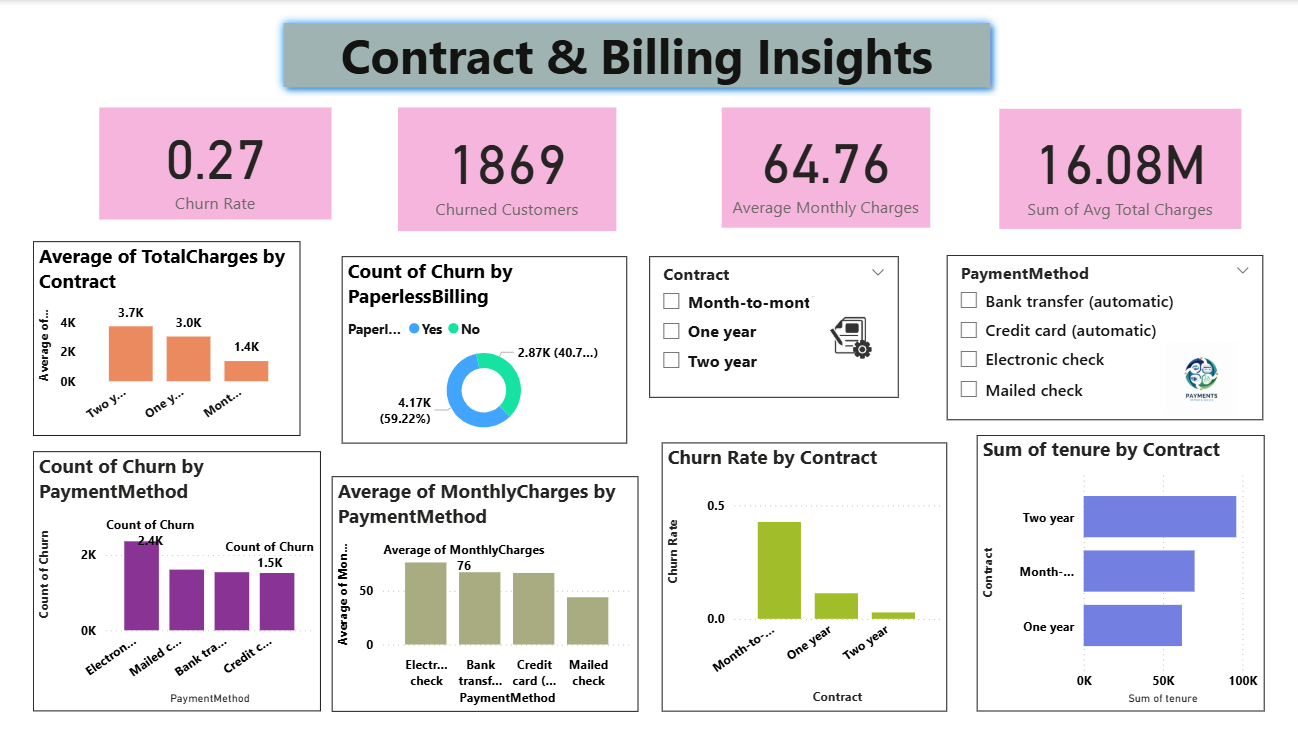

The dashboard page shown, as its layout file describes it:
{"tool":"powerbi","page":{"name":"Contract & Billing Insights","canvas":[1280,720],"ordinal":2},"visuals":[{"type":"columnChart","fields":{"Category":["WA_Fn-UseC_-Telco-Customer-Churn.Contract"],"Y":["WA_Fn-UseC_-Telco-Customer-Churn.Churn Rate"]},"box":[649.3,432.9,278.8,262.9],"z":0},{"type":"clusteredColumnChart","fields":{"Category":["WA_Fn-UseC_-Telco-Customer-Churn.PaymentMethod"],"Y":["CountNonNull(WA_Fn-UseC_-Telco-Customer-Churn.Churn)"]},"box":[34.2,441.4,281.3,254.3],"z":1000},{"type":"clusteredColumnChart","fields":{"Category":["WA_Fn-UseC_-Telco-Customer-Churn.Contract"],"Y":["Avg(WA_Fn-UseC_-Telco-Customer-Churn.TotalCharges)"]},"box":[34.2,235.5,261.5,190.3],"z":2000},{"type":"donutChart","fields":{"Category":["WA_Fn-UseC_-Telco-Customer-Churn.PaperlessBilling"],"Y":["CountNonNull(WA_Fn-UseC_-Telco-Customer-Churn.Churn)"]},"box":[336.3,250.7,278.8,183.4],"z":3000},{"type":"barChart","fields":{"Category":["WA_Fn-UseC_-Telco-Customer-Churn.Contract"],"Y":["Sum(WA_Fn-UseC_-Telco-Customer-Churn.tenure)"]},"box":[957.5,425.5,281.3,270.2],"z":4000},{"type":"card","fields":{"Values":["WA_Fn-UseC_-Telco-Customer-Churn.Average Monthly Charges"]},"box":[707.9,105.4,204,117.8],"z":5000},{"type":"card","fields":{"Values":["WA_Fn-UseC_-Telco-Customer-Churn.Churn Rate"]},"box":[98.6,105.4,227.3,109.5],"z":6000},{"type":"card","fields":{"Values":["WA_Fn-UseC_-Telco-Customer-Churn.Churned Customers"]},"box":[391.6,105.4,213.6,120.5],"z":7000},{"type":"slicer","fields":{"Values":["WA_Fn-UseC_-Telco-Customer-Churn.Contract"]},"box":[636.7,250.6,243.7,138.3],"z":8000},{"type":"slicer","fields":{"Values":["WA_Fn-UseC_-Telco-Customer-Churn.PaymentMethod"]},"box":[928.1,249.5,309.4,161.4],"z":9000},{"type":"card","fields":{"Values":["Sum(WA_Fn-UseC_-Telco-Customer-Churn.Avg Total Charges)"]},"box":[979,106.8,236.9,117.8],"z":10000},{"type":"columnChart","fields":{"Category":["WA_Fn-UseC_-Telco-Customer-Churn.PaymentMethod"],"Y":["Avg(WA_Fn-UseC_-Telco-Customer-Churn.MonthlyCharges)"]},"box":[325.9,465.6,299.9,230],"z":11000},{"type":"shape","box":[269.7,13.7,709.3,80.8],"z":12000},{"type":"image","box":[788.7,284.8,91.7,91.7],"z":13000},{"type":"image","box":[1115.2,330.2,123.5,80.7],"z":14000}]}

Visuals, with their boxes in screenshot pixels (x1, y1, x2, y2), scaled from the page's 1280x720 canvas onto the 1298x730 screenshot:
columnChart - WA_Fn-UseC_-Telco-Customer-Churn.Contract x WA_Fn-UseC_-Telco-Customer-Churn.Churn Rate: 658:439:941:705
clusteredColumnChart - WA_Fn-UseC_-Telco-Customer-Churn.PaymentMethod x CountNonNull(WA_Fn-UseC_-Telco-Customer-Churn.Churn): 35:448:320:705
clusteredColumnChart - WA_Fn-UseC_-Telco-Customer-Churn.Contract x Avg(WA_Fn-UseC_-Telco-Customer-Churn.TotalCharges): 35:239:300:432
donutChart - WA_Fn-UseC_-Telco-Customer-Churn.PaperlessBilling x CountNonNull(WA_Fn-UseC_-Telco-Customer-Churn.Churn): 341:254:624:440
barChart - WA_Fn-UseC_-Telco-Customer-Churn.Contract x Sum(WA_Fn-UseC_-Telco-Customer-Churn.tenure): 971:431:1256:705
card - WA_Fn-UseC_-Telco-Customer-Churn.Average Monthly Charges: 718:107:925:226
card - WA_Fn-UseC_-Telco-Customer-Churn.Churn Rate: 100:107:330:218
card - WA_Fn-UseC_-Telco-Customer-Churn.Churned Customers: 397:107:614:229
slicer - WA_Fn-UseC_-Telco-Customer-Churn.Contract: 646:254:893:394
slicer - WA_Fn-UseC_-Telco-Customer-Churn.PaymentMethod: 941:253:1255:417
card - Sum(WA_Fn-UseC_-Telco-Customer-Churn.Avg Total Charges): 993:108:1233:228
columnChart - WA_Fn-UseC_-Telco-Customer-Churn.PaymentMethod x Avg(WA_Fn-UseC_-Telco-Customer-Churn.MonthlyCharges): 330:472:635:705
shape: 273:14:993:96
image: 800:289:893:382
image: 1131:335:1256:417
